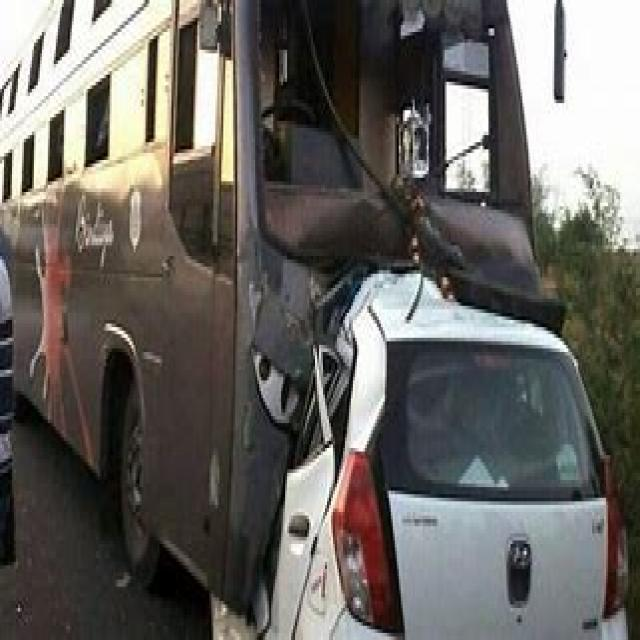multiple_accident: (49, 37, 574, 543)
